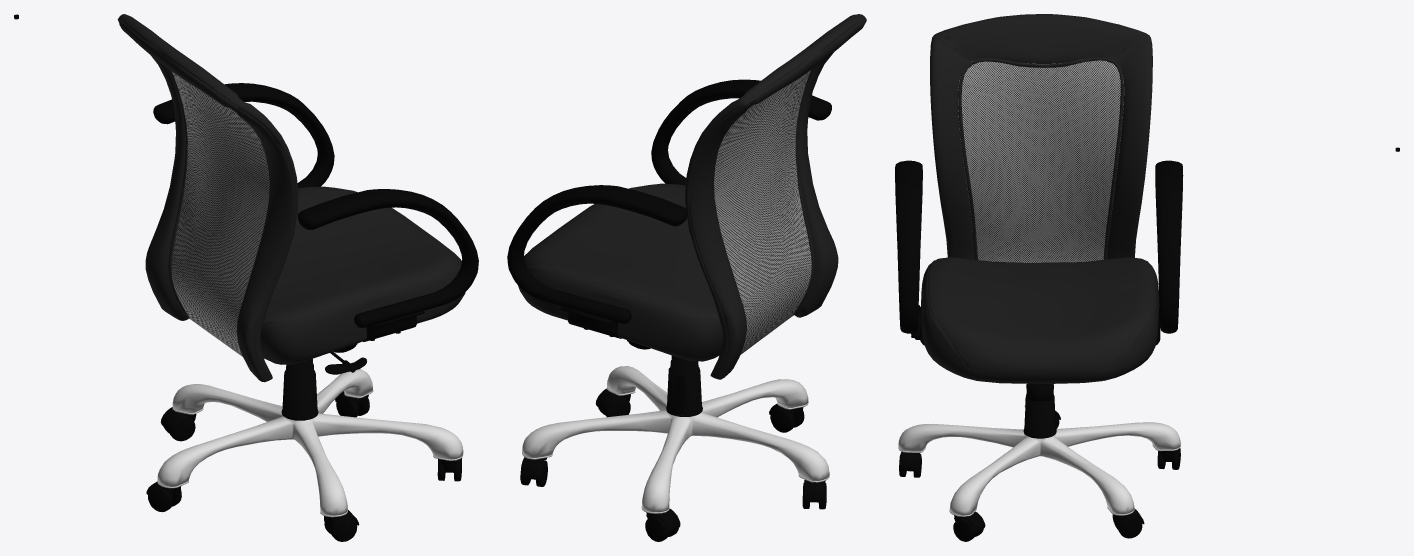
File: chair04.glb
The picture shows the model from 3 angles, left to right: view 1: azimuth 30°, elevation 25°; view 2: azimuth 150°, elevation 25°; view 3: azimuth 270°, elevation 25°; orthographic projection. The views are drawn at different scales.
Parts seen in each view (by area): view 1: Cylinder25; view 2: Cylinder25; view 3: Cylinder25.
Boxes of the visible parts, x1,y1,x2,y2 form: Cylinder25: [14, 14, 478, 541]; Cylinder25: [507, 14, 866, 541]; Cylinder25: [895, 14, 1399, 541].
Size of the model in its own units: 0.5471 by 0.8527 by 0.9356.
Materials: 5 (1 with a texture image).
